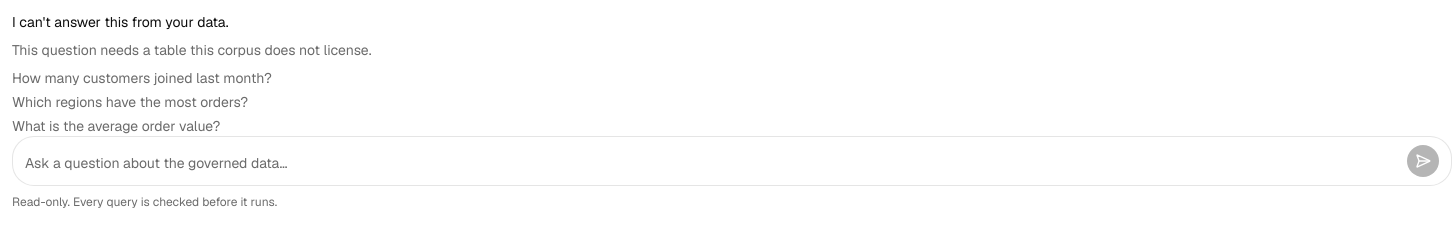
Test: Refusal › shows the sentence, the reason, and nearby questions that fill the composer
The image size is (1452, 225).
Check: the text "I can't answer this from your data." is shown, box [12, 13, 229, 31]
Check: the link "How many customers joined last month?" is shown, box [12, 69, 272, 87]
Click the link "What is the average order value?" at coordinates (116, 126), box [12, 117, 220, 135]
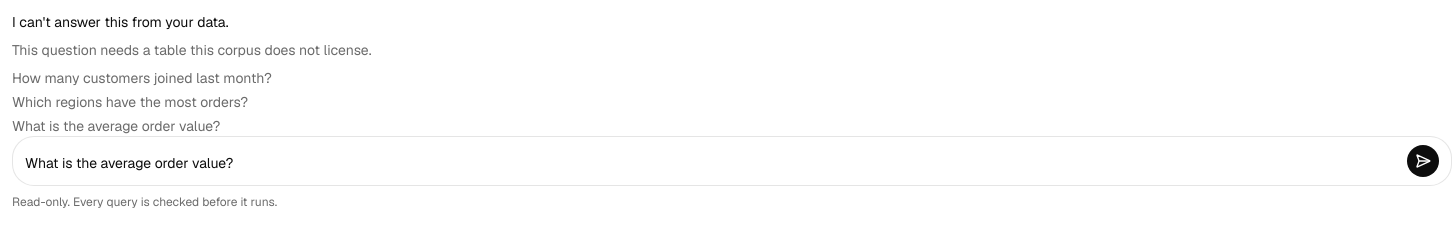
Check: the text box named "Ask a question about the governed data" holds "What is the average order value?", box [25, 149, 1399, 177]
